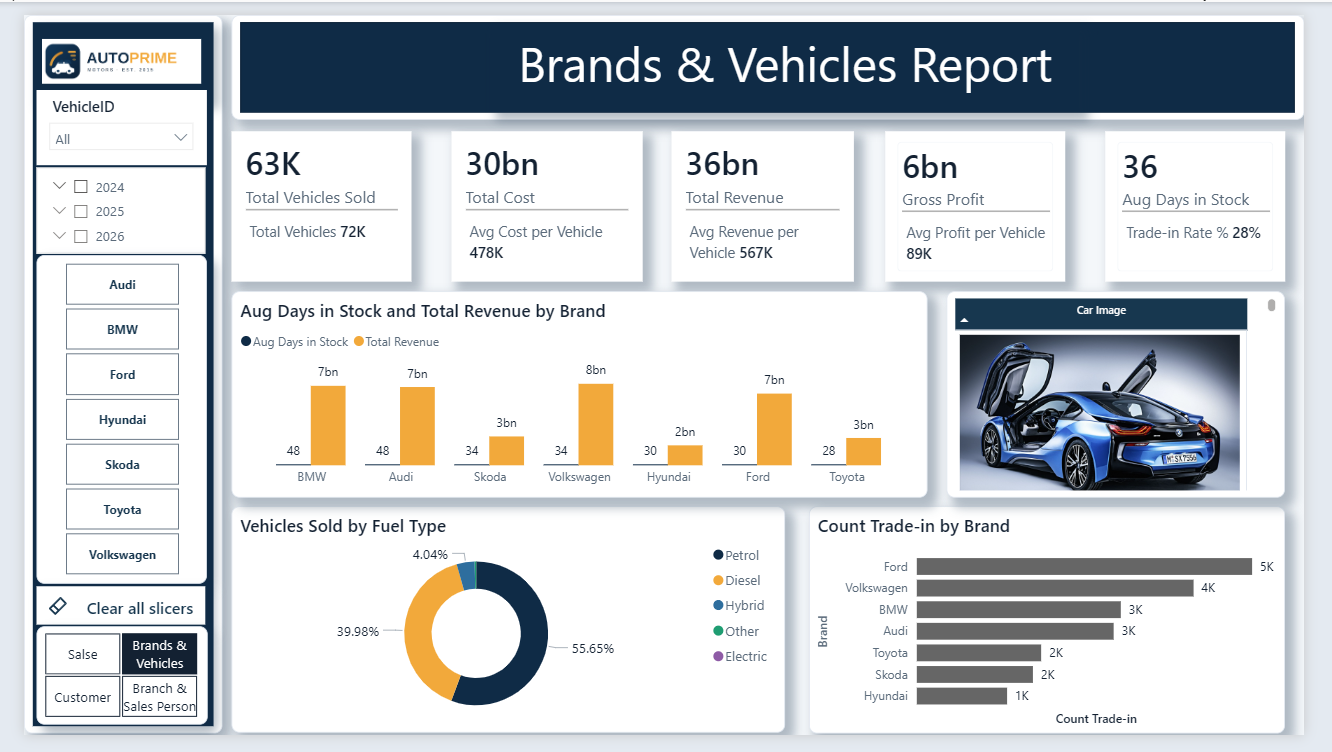

Layout of this report page (visuals, bound fields, positions):
{"tool":"powerbi","page":{"name":"Brands & Vehicles","canvas":[1280,720],"ordinal":1},"visuals":[{"type":"shape","box":[0,0,198.8,718.8],"z":0},{"type":"shape","box":[207.5,0,1072.5,105],"z":1000},{"type":"image","box":[9.5,8.3,175,75],"z":2000},{"type":"textbox","box":[467.5,8.8,587.5,87.5],"z":3000},{"type":"donutChart","title":"Vehicles Sold by Fuel Type","fields":{"Y":["CountNonNull(Fact_Sales.VehicleID)"],"Category":["Dim_Vehicle.FuelType"]},"box":[207.5,491.2,553.8,226.2],"z":4000},{"type":"slicer","fields":{"Values":["Dim_Date.Year","Dim_Date.MonthName"]},"box":[12.5,151.9,168.8,86.2],"z":5000},{"type":"cardVisual","fields":{"Data":["Measure.Total Cost"]},"box":[427.5,116.2,191.2,150],"z":6000},{"type":"cardVisual","fields":{"Data":["Measure.Total Vehicles Sold"]},"box":[207.5,116.2,180,150],"z":7000},{"type":"cardVisual","fields":{"Data":["Measure.Total Revenue"]},"box":[647.5,116.2,182.5,150],"z":8000},{"type":"cardVisual","fields":{"Data":["Measure.Aug Days in Stock"]},"box":[1081.2,116.2,180,150],"z":9000},{"type":"cardVisual","fields":{"Data":["Measure.Gross Profit"]},"box":[861.2,116.2,180,150],"z":10000},{"type":"clusteredBarChart","fields":{"Category":["Dim_Brand.Brand"],"Y":["Measure.Count Trand-in"]},"box":[785,491.2,476.2,227.5],"z":11000},{"type":"clusteredColumnChart","fields":{"Category":["Dim_Brand.Brand"],"Y":["Measure.Aug Days in Stock","Measure.Total Revenue"]},"box":[207.5,276.2,696.2,206.2],"z":12000},{"type":"slicer","fields":{"Values":["Dim_Brand.Brand"]},"box":[12.5,240,170,328.8],"z":13000},{"type":"actionButton","box":[12.5,571.2,168.8,38.8],"z":14000},{"type":"slicer","fields":{"Values":["Dim_Vehicle.VehicleID"]},"box":[12.5,75,170,75],"z":15000},{"type":"pivotTable","fields":{"Rows":["Dim_Brand.CarImageBase64"]},"box":[922.5,276.2,338.8,206.2],"z":16000},{"type":"pageNavigator","box":[12.5,611.2,171.2,98.8],"z":17000}]}

Visuals, with their boxes in screenshot pixels (x1, y1, x2, y2), scaled from the page's 1280x720 canvas onto the 1332x752 screenshot:
shape: (left=0, top=0, right=207, bottom=751)
shape: (left=216, top=0, right=1331, bottom=110)
image: (left=10, top=9, right=192, bottom=87)
textbox: (left=486, top=9, right=1098, bottom=101)
"Vehicles Sold by Fuel Type" donutChart: (left=216, top=513, right=792, bottom=749)
slicer - Dim_Date.Year x Dim_Date.MonthName: (left=13, top=159, right=189, bottom=249)
cardVisual - Measure.Total Cost: (left=445, top=121, right=644, bottom=278)
cardVisual - Measure.Total Vehicles Sold: (left=216, top=121, right=403, bottom=278)
cardVisual - Measure.Total Revenue: (left=674, top=121, right=864, bottom=278)
cardVisual - Measure.Aug Days in Stock: (left=1125, top=121, right=1312, bottom=278)
cardVisual - Measure.Gross Profit: (left=896, top=121, right=1083, bottom=278)
clusteredBarChart - Dim_Brand.Brand x Measure.Count Trand-in: (left=817, top=513, right=1312, bottom=751)
clusteredColumnChart - Dim_Brand.Brand x Measure.Aug Days in Stock: (left=216, top=288, right=940, bottom=504)
slicer - Dim_Brand.Brand: (left=13, top=251, right=190, bottom=594)
actionButton: (left=13, top=597, right=189, bottom=637)
slicer - Dim_Vehicle.VehicleID: (left=13, top=78, right=190, bottom=157)
pivotTable - Dim_Brand.CarImageBase64: (left=960, top=288, right=1313, bottom=504)
pageNavigator: (left=13, top=638, right=191, bottom=742)
